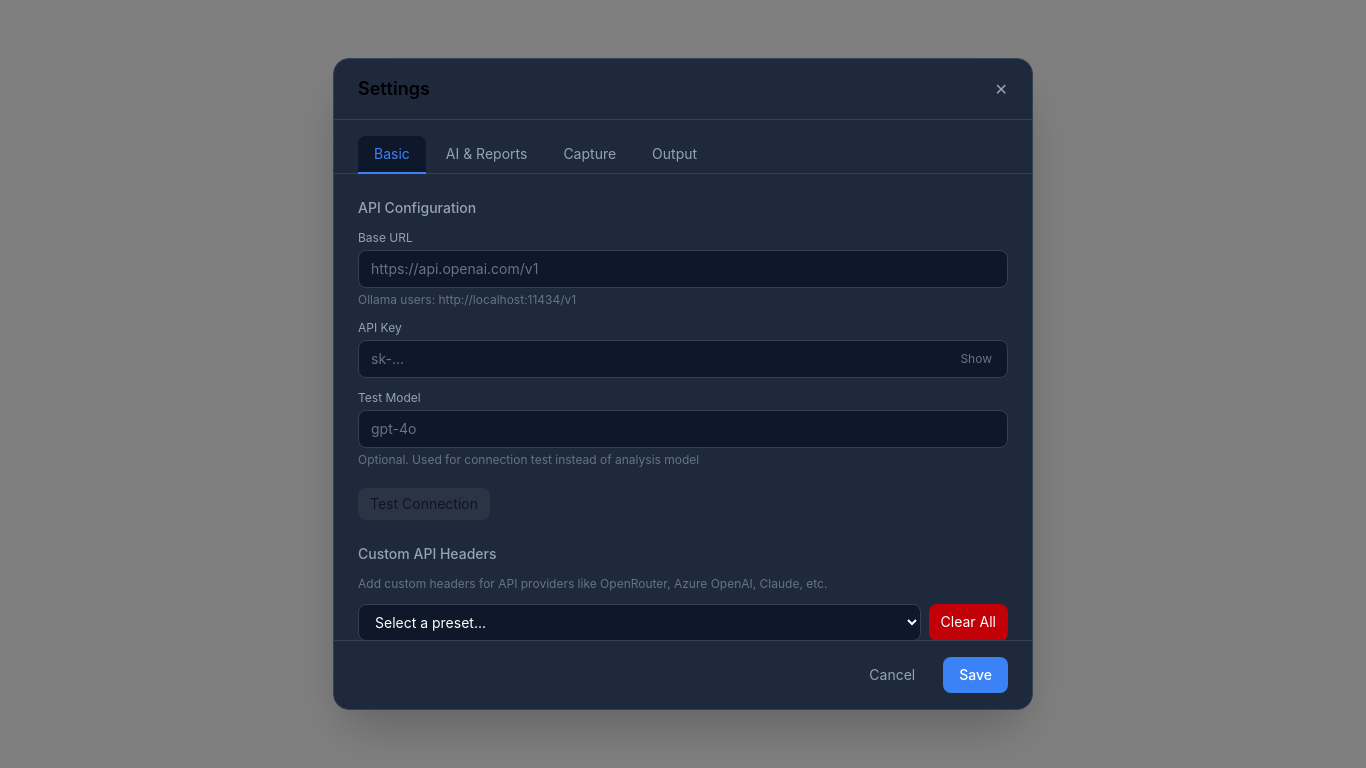
Test: SettingsModal.vue - saveSettings › 保存成功时显示"✓ 已保存"
Click the button "Save" at (976, 675), box [943,657,1008,693]
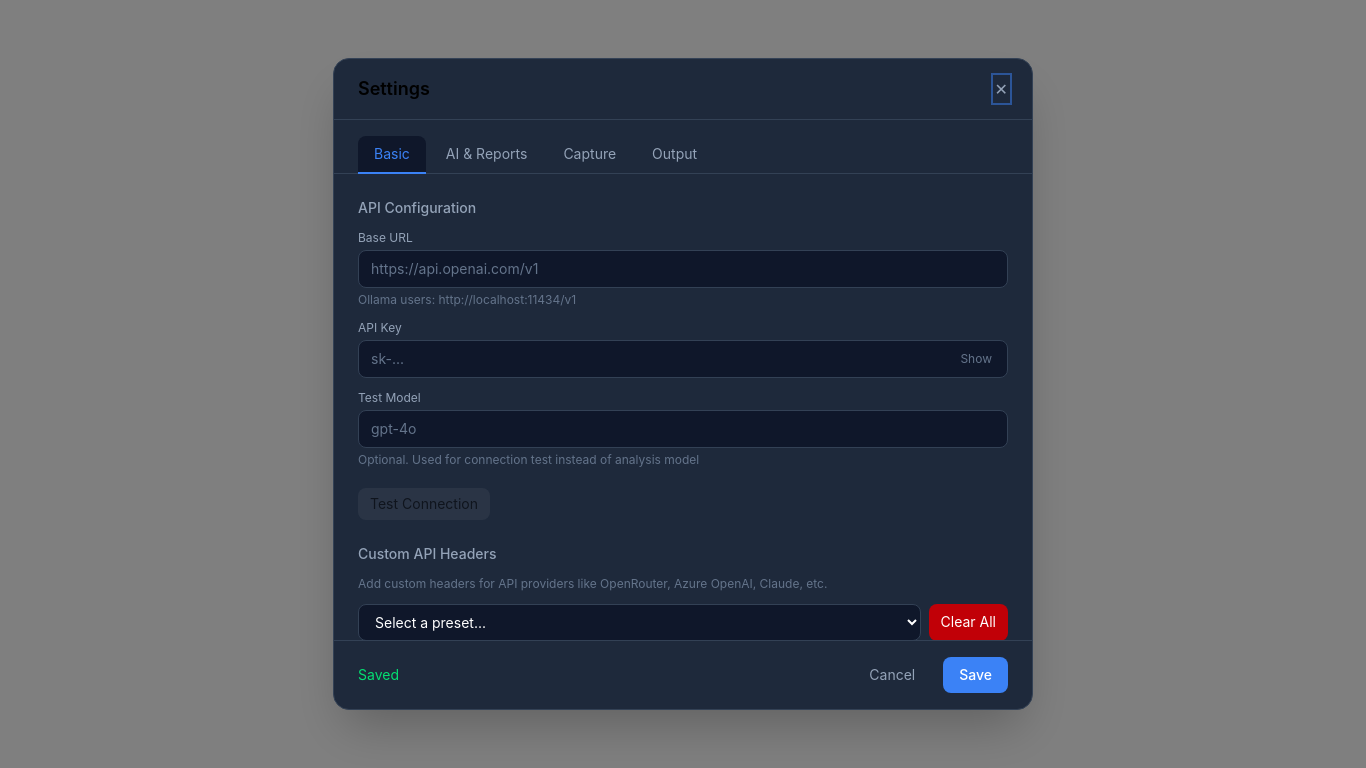
Check: the text "Saved" is shown, box [358,666,399,683]
